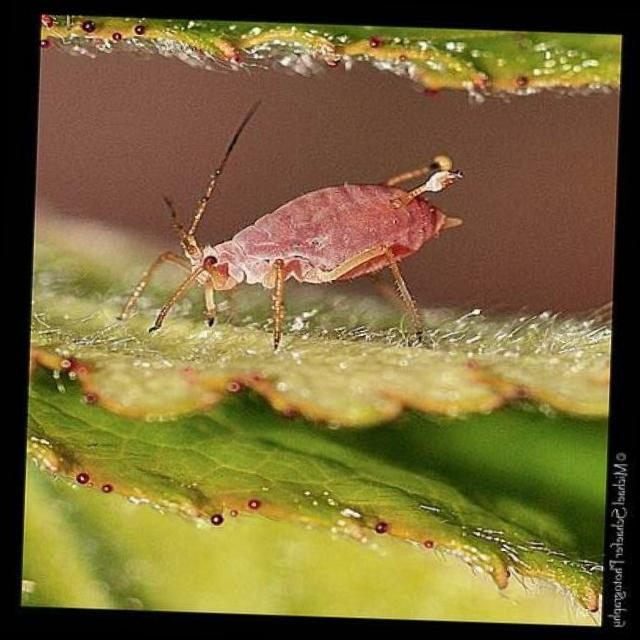aphid: (113, 109, 470, 361)
